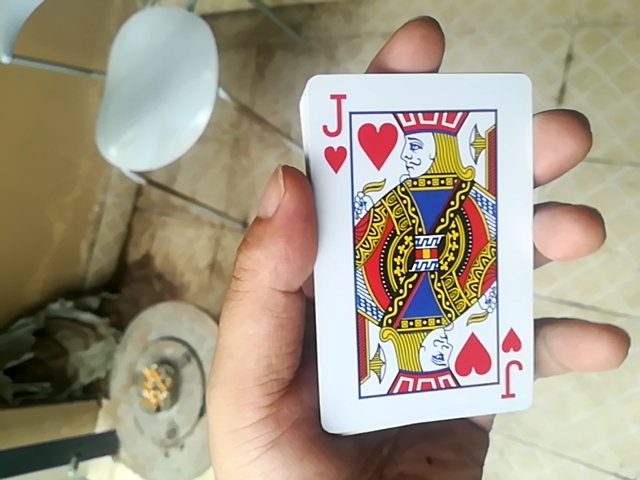hx j: (307, 61, 539, 449)
